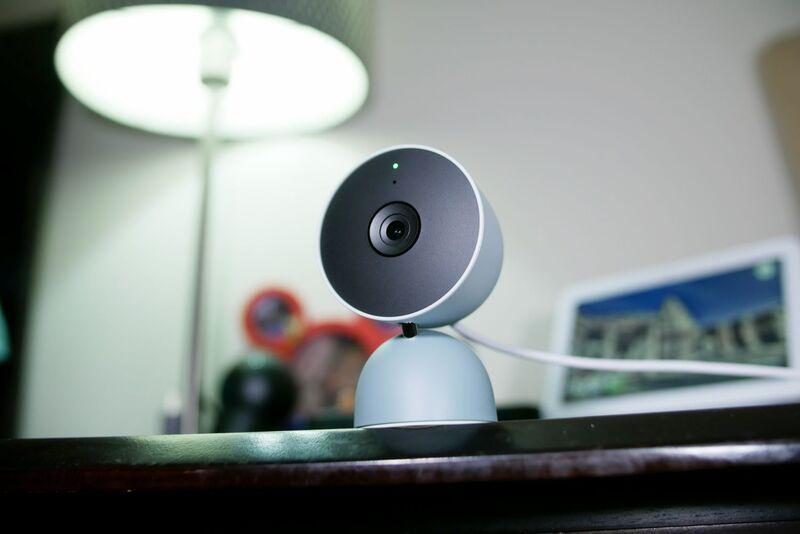nest: (304, 148, 509, 329)
